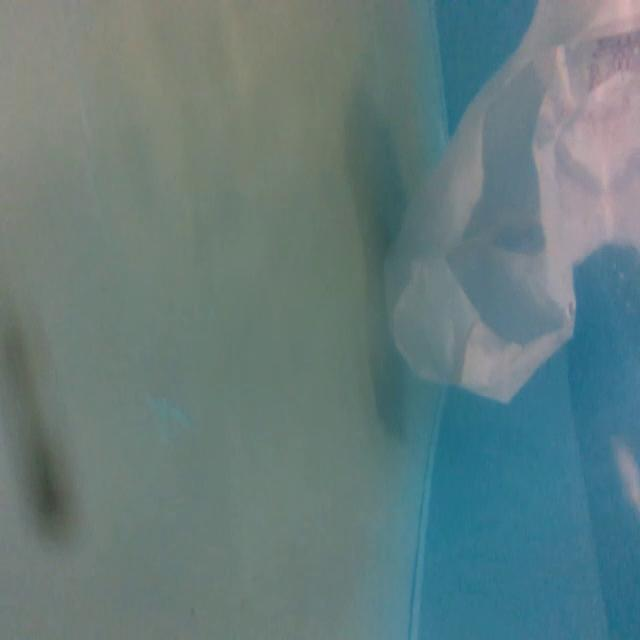plastic bags: (379, 3, 640, 413)
